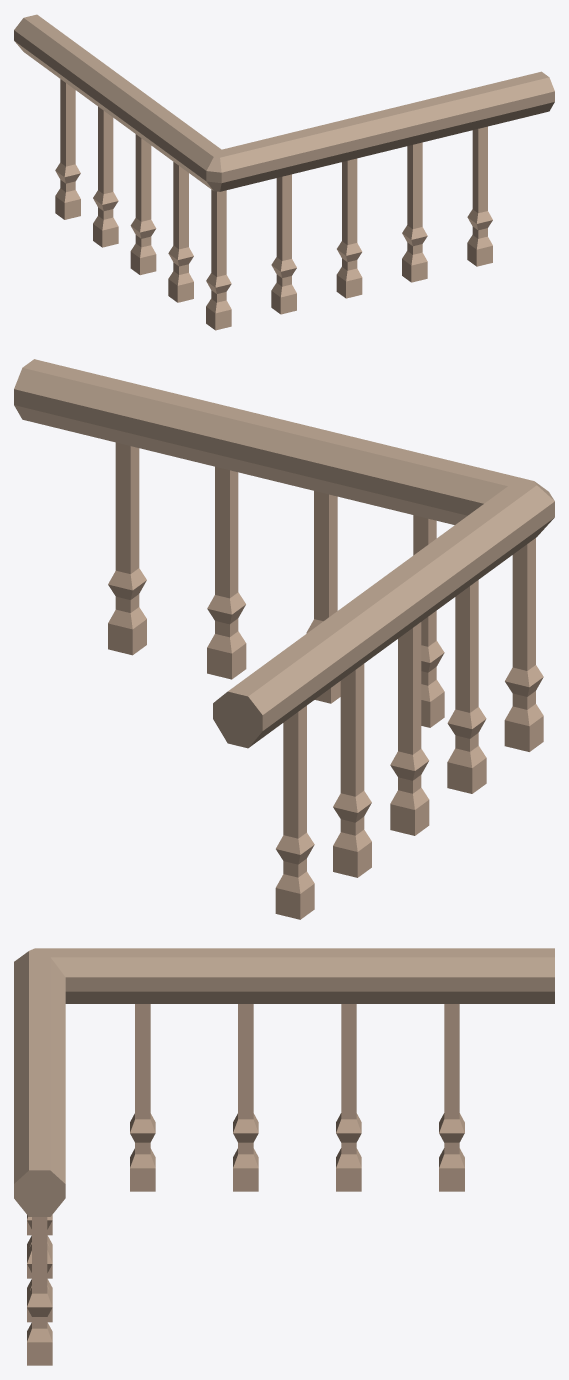
File: Structure_Stairs_Railing_Landing_Corner.fbx
The picture shows the model from 3 angles, top to bottom: view 1: azimuth 30°, elevation 25°; view 2: azimuth 150°, elevation 25°; view 3: azimuth 270°, elevation 25°; orthographic projection. The views are drawn at different scales.
Parts seen in each view (by area): view 1: object1.102; view 2: object1.102; view 3: object1.102.
Boxes of the visible parts, x1,y1,x2,y2 form: object1.102: (14, 14, 554, 330); object1.102: (14, 359, 554, 919); object1.102: (14, 948, 554, 1365).
Bounding box in the file's own units: 105 × 50 × 105.
